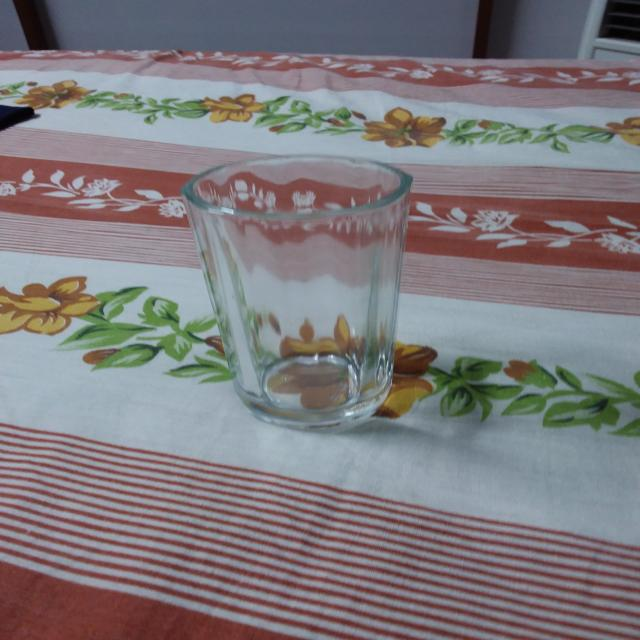Glass: (178, 151, 415, 437)
